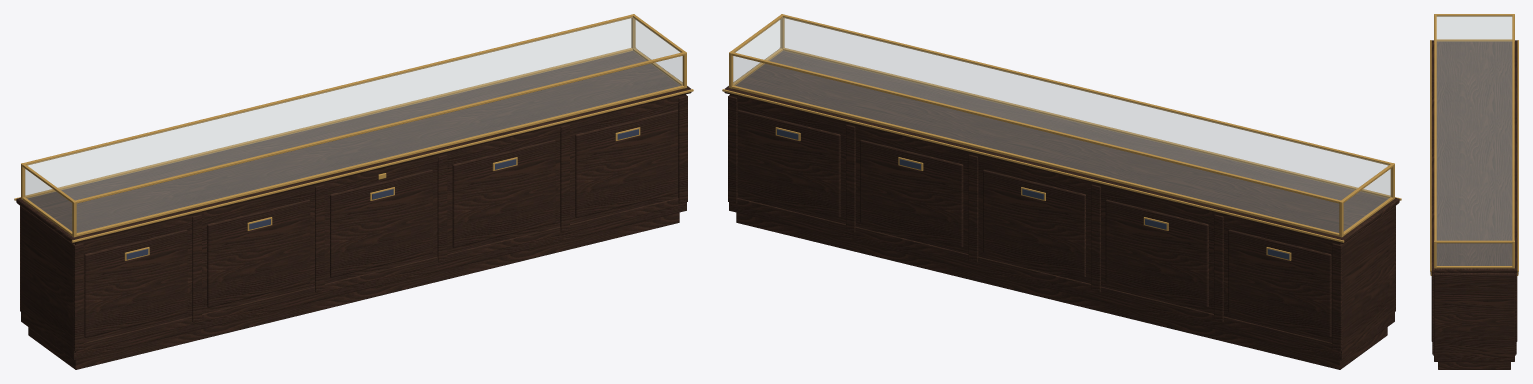
Rendered from vitrine_6080.glb.
The picture shows the model from 3 angles, left to right: view 1: azimuth 30°, elevation 25°; view 2: azimuth 150°, elevation 25°; view 3: azimuth 270°, elevation 25°; orthographic projection. The views are drawn at different scales.
Parts seen in each view (by area): view 1: vitrine_6080; view 2: vitrine_6080; view 3: vitrine_6080.
Boxes of the visible parts, x1=… form: vitrine_6080: x1=14, y1=14, x2=693, y2=369; vitrine_6080: x1=722, y1=14, x2=1401, y2=369; vitrine_6080: x1=1430, y1=14, x2=1518, y2=369.
Size of the model in its own units: 4.05 by 1.07 by 0.658.
Materials: 5 (3 with a texture image).
